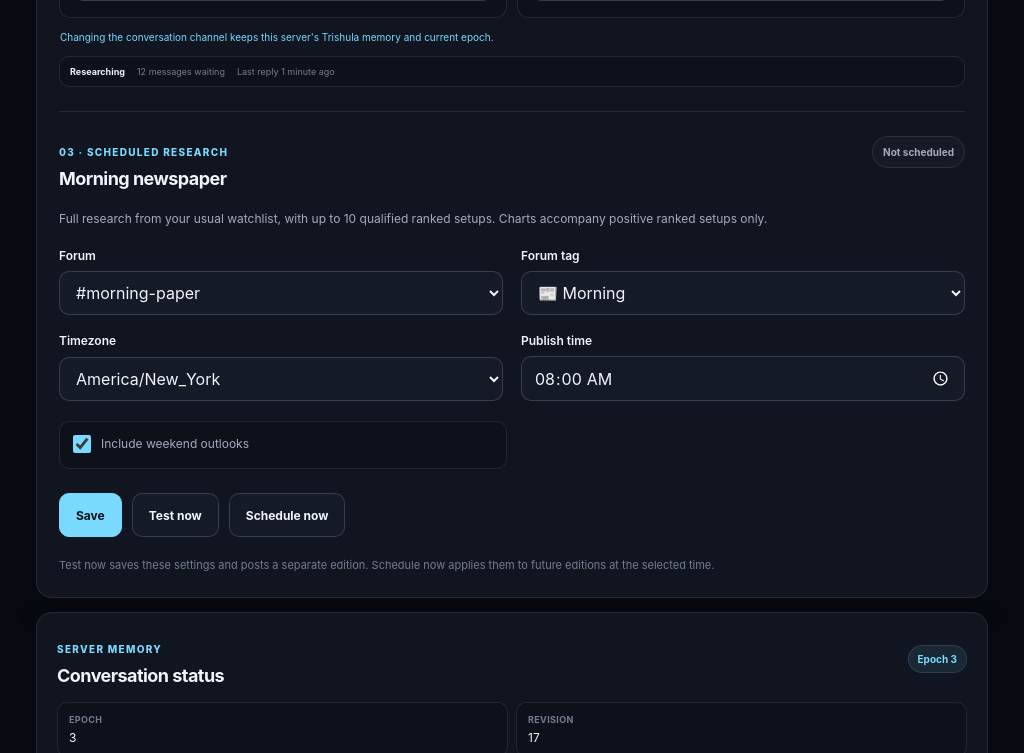
Test: Discord control surface › test saves the current form then queues a real forum edition with a request ID
The width and height of the screenshot is (1024, 753).
(page scrolled)
Replace the text in the time field named "Local publish time" with "09:30": (743, 379) [521, 356, 965, 401]
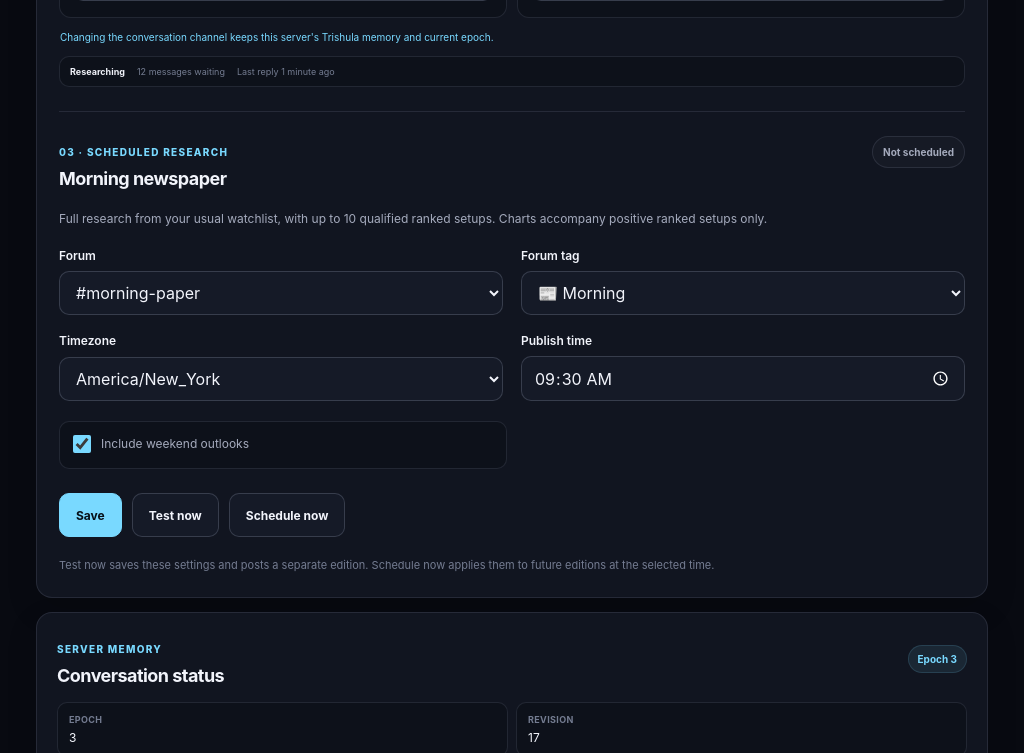
Click the button "Test now": (175, 515) [132, 493, 219, 537]
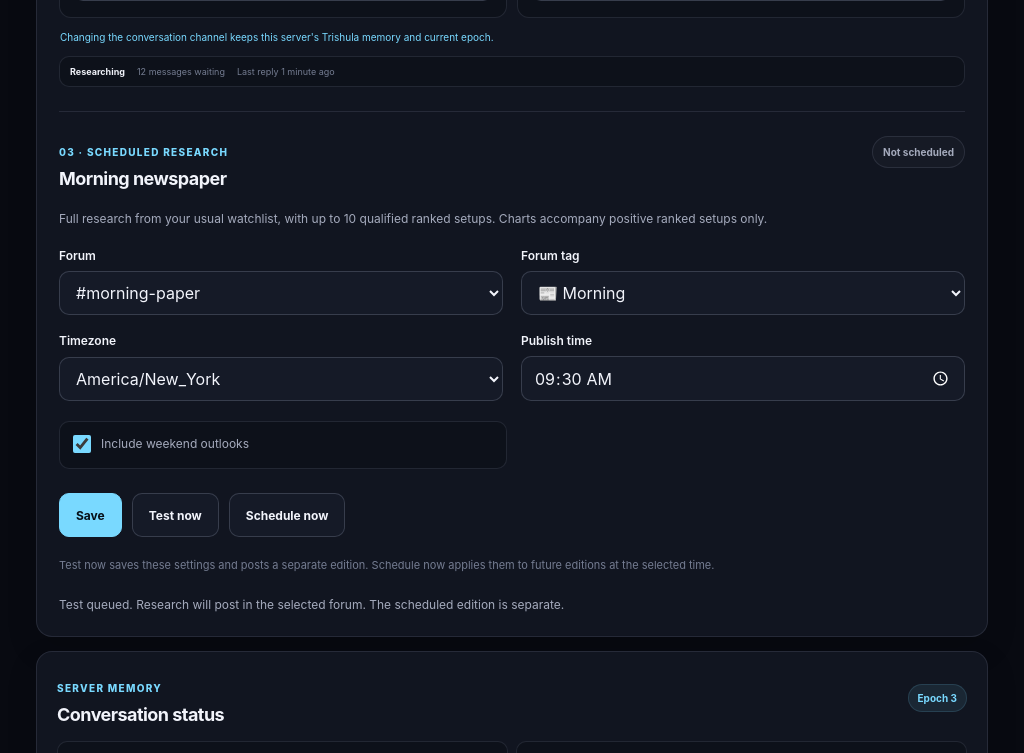
Check: the button "Schedule now" is enabled, box [229, 493, 346, 537]
Check: the text "Test queued" is shown, box [59, 597, 564, 612]
